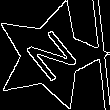N_SE: (17, 23, 82, 88)
